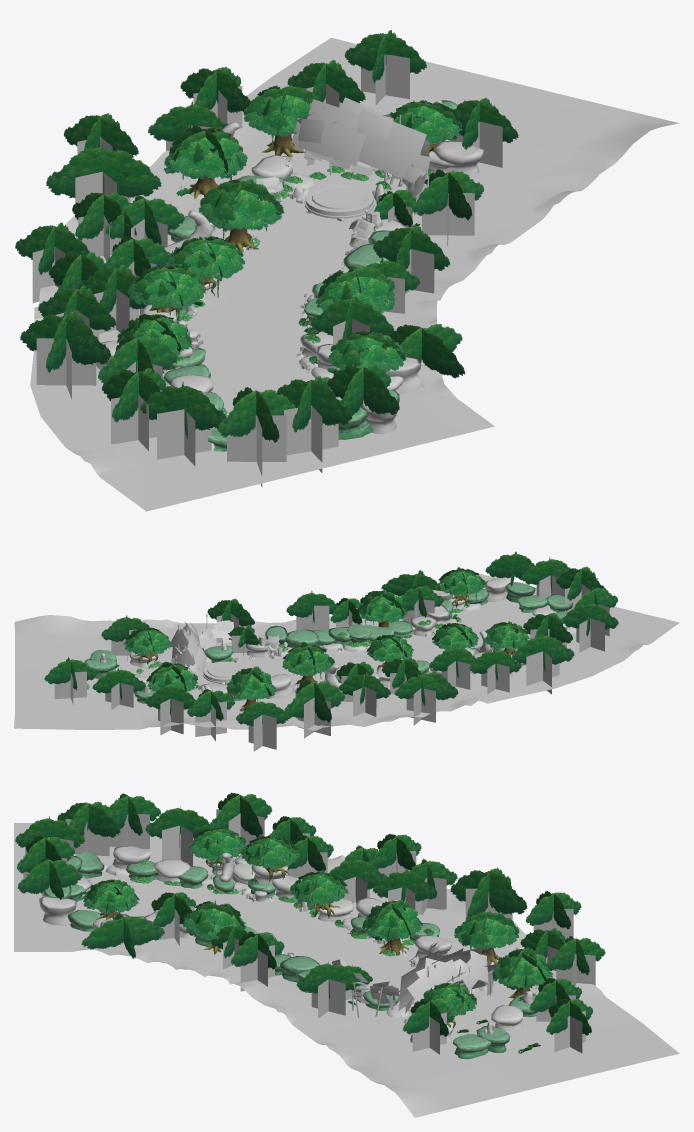
File: dungeons01_mysl_01.FBX
The picture shows the model from 3 angles, top to bottom: view 1: azimuth 30°, elevation 25°; view 2: azimuth 150°, elevation 25°; view 3: azimuth 270°, elevation 25°; orthographic projection. The views are drawn at different scales.
Visible parts, largest first — view 1: TreeLeaf1_G_ST1, Floor1_ST1, Wood2_BR_Silver1, TreeLeaf_B_ST1, Rock2_G_ST1, Rock2_GY_ST1, BossGround_ST1, Wood1_BR_ST1, Rock1_BG_ST1, Stone1_BGY_ST1; view 2: TreeLeaf1_G_ST1, Floor1_ST1, Wood2_BR_Silver1, Rock2_GY_ST1, Rock2_G_ST1, TreeLeaf_B_ST1, Rock1_BG_ST1, Wood1_BR_ST1, Stone1_BGY_ST1, BossGround_ST1; view 3: TreeLeaf1_G_ST1, Floor1_ST1, Wood2_BR_Silver1, Rock2_GY_ST1, Rock2_G_ST1, TreeLeaf_B_ST1, Wood1_BR_ST1, Rock1_BG_ST1, Stone1_BGY_ST1.
Boxes of the visible parts, x1,y1,x2,y2 form: TreeLeaf1_G_ST1: [15, 30, 518, 442]; Floor1_ST1: [30, 37, 678, 511]; Wood2_BR_Silver1: [32, 54, 502, 486]; TreeLeaf_B_ST1: [256, 97, 430, 248]; Rock2_G_ST1: [96, 141, 483, 434]; Rock2_GY_ST1: [163, 100, 457, 451]; BossGround_ST1: [276, 183, 389, 221]; Wood1_BR_ST1: [149, 133, 438, 373]; Rock1_BG_ST1: [162, 139, 449, 450]; Stone1_BGY_ST1: [176, 100, 441, 358]; TreeLeaf1_G_ST1: [44, 551, 618, 732]; Floor1_ST1: [14, 573, 679, 730]; Wood2_BR_Silver1: [54, 575, 609, 751]; Rock2_GY_ST1: [84, 582, 572, 704]; Rock2_G_ST1: [129, 577, 568, 698]; TreeLeaf_B_ST1: [170, 620, 282, 673]; Rock1_BG_ST1: [115, 603, 576, 708]; Wood1_BR_ST1: [133, 595, 517, 711]; Stone1_BGY_ST1: [100, 630, 492, 692]; BossGround_ST1: [198, 661, 245, 683]; TreeLeaf1_G_ST1: [15, 792, 605, 1053]; Floor1_ST1: [14, 823, 679, 1117]; Wood2_BR_Silver1: [23, 809, 595, 1054]; Rock2_GY_ST1: [43, 851, 536, 1059]; Rock2_G_ST1: [39, 846, 523, 1042]; TreeLeaf_B_ST1: [332, 942, 498, 1013]; Wood1_BR_ST1: [96, 859, 536, 1028]; Rock1_BG_ST1: [101, 862, 498, 1017]; Stone1_BGY_ST1: [219, 852, 532, 1034].
Size of the model in its own units: 10942 by 1314 by 10439.
